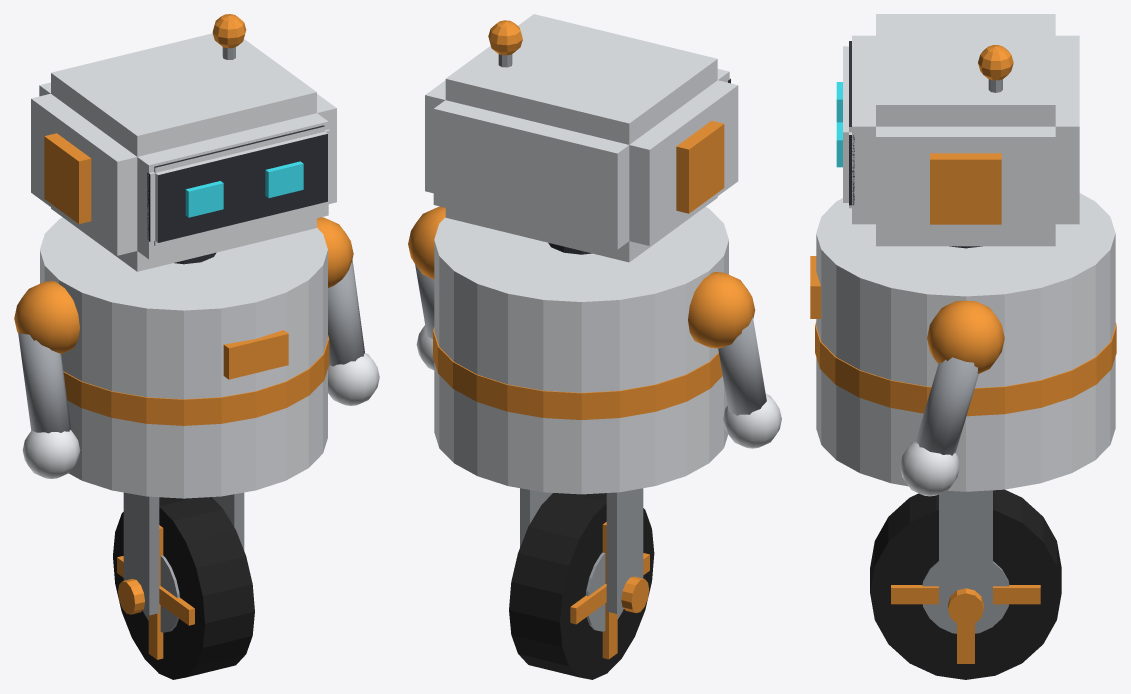
Rendered from player.glb.
The picture shows the model from 3 angles, left to right: view 1: azimuth 30°, elevation 25°; view 2: azimuth 150°, elevation 25°; view 3: azimuth 270°, elevation 25°; orthographic projection. The views are drawn at different scales.
Visible parts, largest first — view 1: robot_body, robot_head, robot_tire, robot_arms; view 2: robot_body, robot_head, robot_tire, robot_arms; view 3: robot_body, robot_head, robot_tire, robot_arms.
Part boxes in pixels (left/top/right/bottom): robot_body: left=40, top=217, right=329, bottom=615; robot_head: left=31, top=14, right=336, bottom=271; robot_tire: left=113, top=497, right=254, bottom=679; robot_arms: left=14, top=217, right=379, bottom=478; robot_body: left=433, top=206, right=728, bottom=613; robot_head: left=425, top=14, right=738, bottom=262; robot_tire: left=509, top=493, right=654, bottom=679; robot_arms: left=408, top=206, right=781, bottom=448; robot_body: left=810, top=193, right=1116, bottom=625; robot_head: left=836, top=14, right=1079, bottom=246; robot_tire: left=870, top=489, right=1061, bottom=679; robot_arms: left=900, top=300, right=1004, bottom=496.
Bounding box in the file's own units: 0.7 × 1.2 × 0.512.
